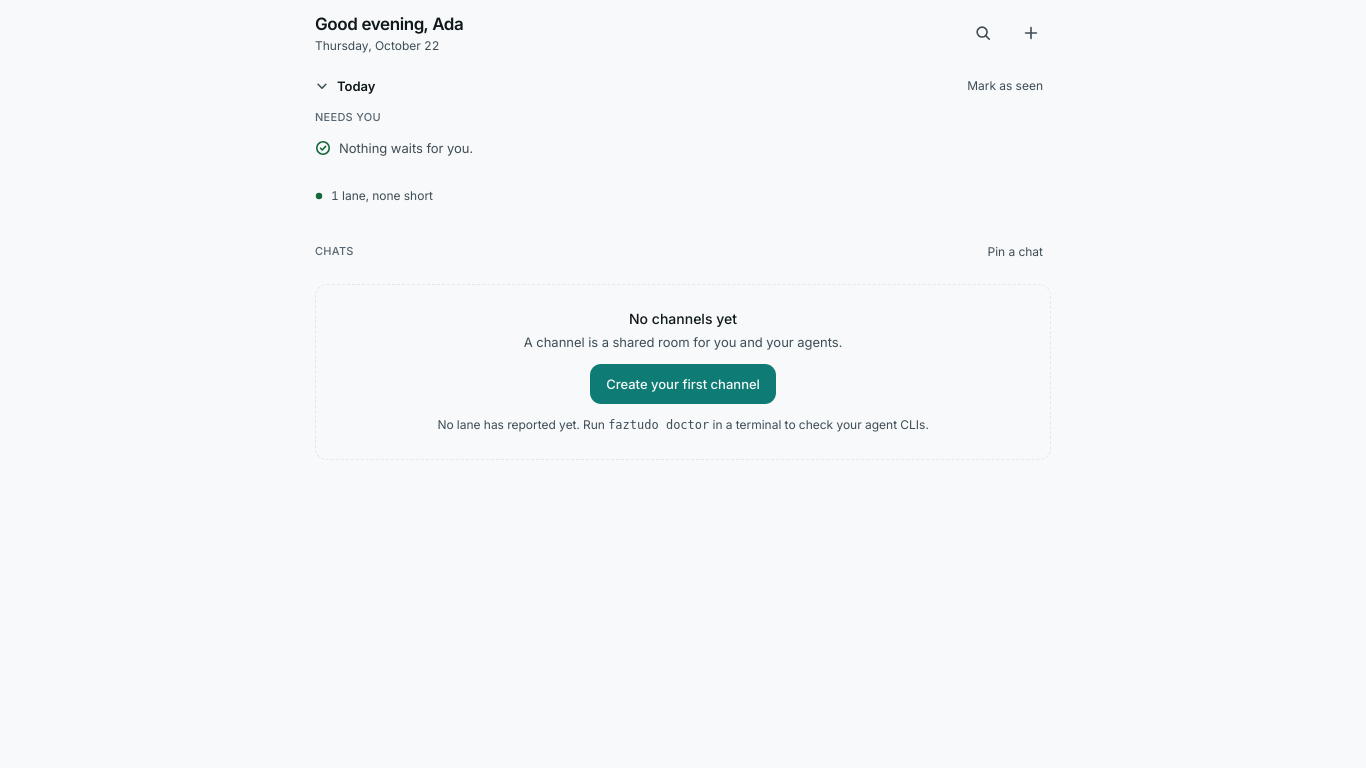
Test: InboxPage › offers to create the first channel and points at doctor when every lane is unknown
Expected: the text "No channels yet" is shown, [629,310,737,327]
Expected: the element with test id "inbox-doctor" shows "faztudo doctor", [608,418,709,432]
What coordinates should you click on to do the following:
click the button "Create your first channel"
I would click on:
 (683, 384)
Its box is [590,364,776,404].
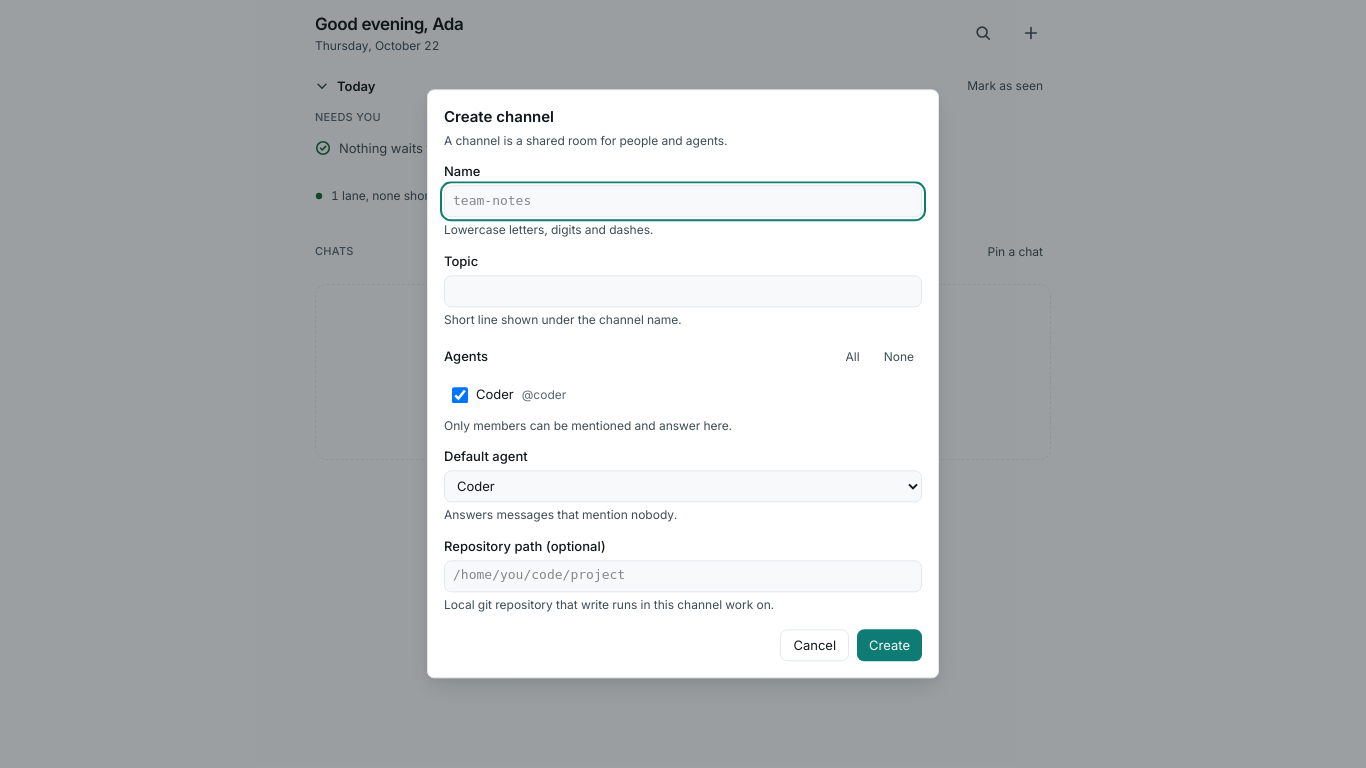
Expected: the dialog "Create channel" is shown, [427,89,939,679]
